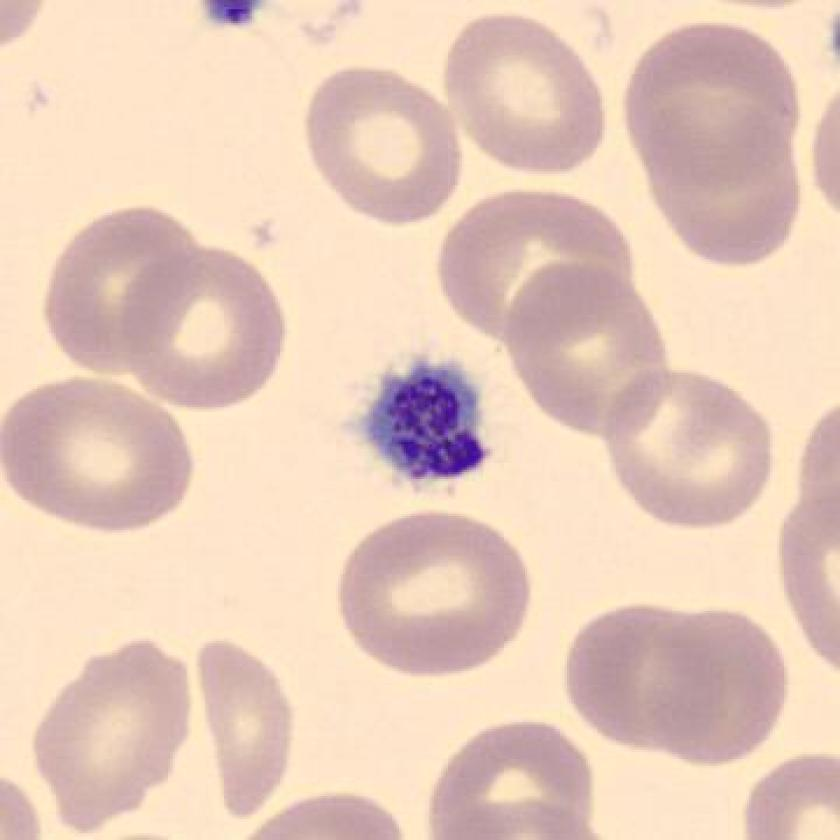platelets: (344, 350, 500, 501)
